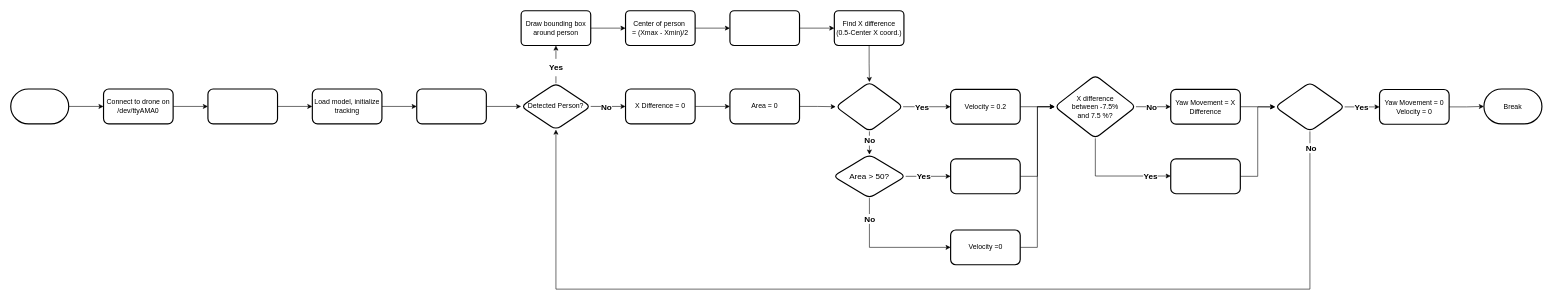
Some shapes in this 1552 by 304 pixel diagram are drawn without their labels. Here are the shapes that lost their labels. From the top down, the centre of each, then its label:
[764,28]: Area of person = 100*(Ymax - Ymin)
[39,106]: Takeoff to 2 meters
[242,106]: Open OpenCV Capture
[451,106]: arm and takeoff drone
[869,106]: 0 < Area < 40?
[1309,106]: Drone Mode is "LAND?"
[985,176]: Velocity = -0.2
[1205,176]: Yaw Movement = 0
